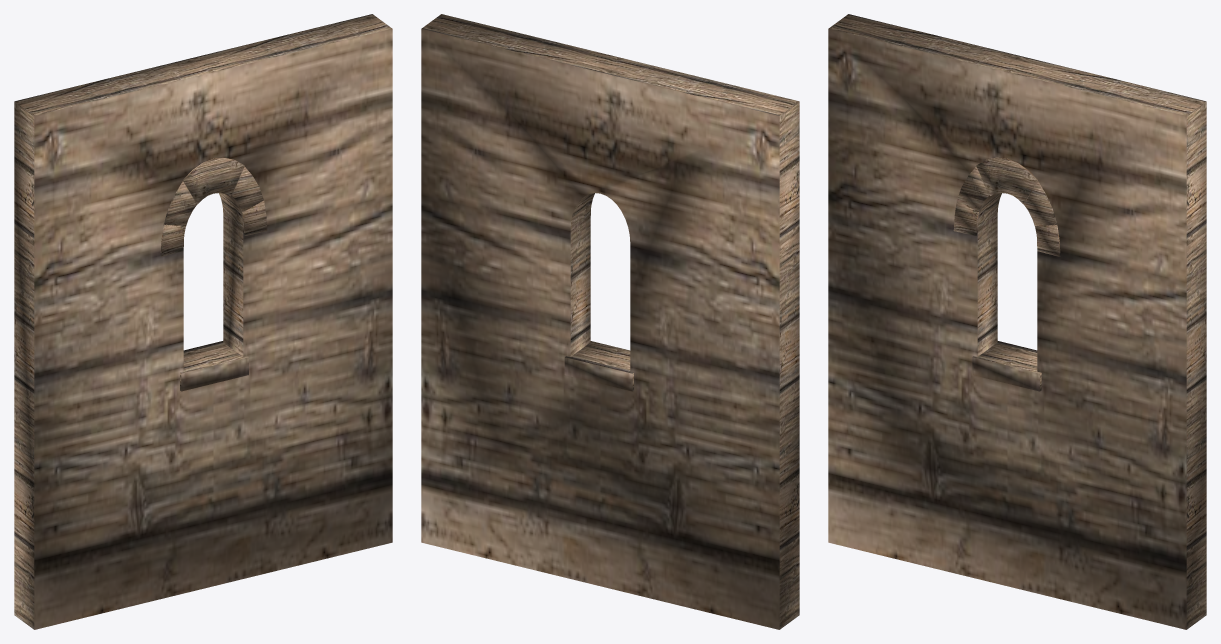
Rendered from wood window2.glb.
The picture shows the model from 3 angles, left to right: view 1: azimuth 30°, elevation 25°; view 2: azimuth 150°, elevation 25°; view 3: azimuth 330°, elevation 25°; orthographic projection.
Parts seen in each view (by area): view 1: Arch Window Wall.002; view 2: Arch Window Wall.002; view 3: Arch Window Wall.002.
Part boxes in pixels (x1,y1,x2,y2): Arch Window Wall.002: [14, 14, 392, 629]; Arch Window Wall.002: [421, 14, 799, 629]; Arch Window Wall.002: [828, 14, 1206, 629].
Size of the model in its own units: 2 by 2.74 by 0.225.
2 materials, 2 textured.
